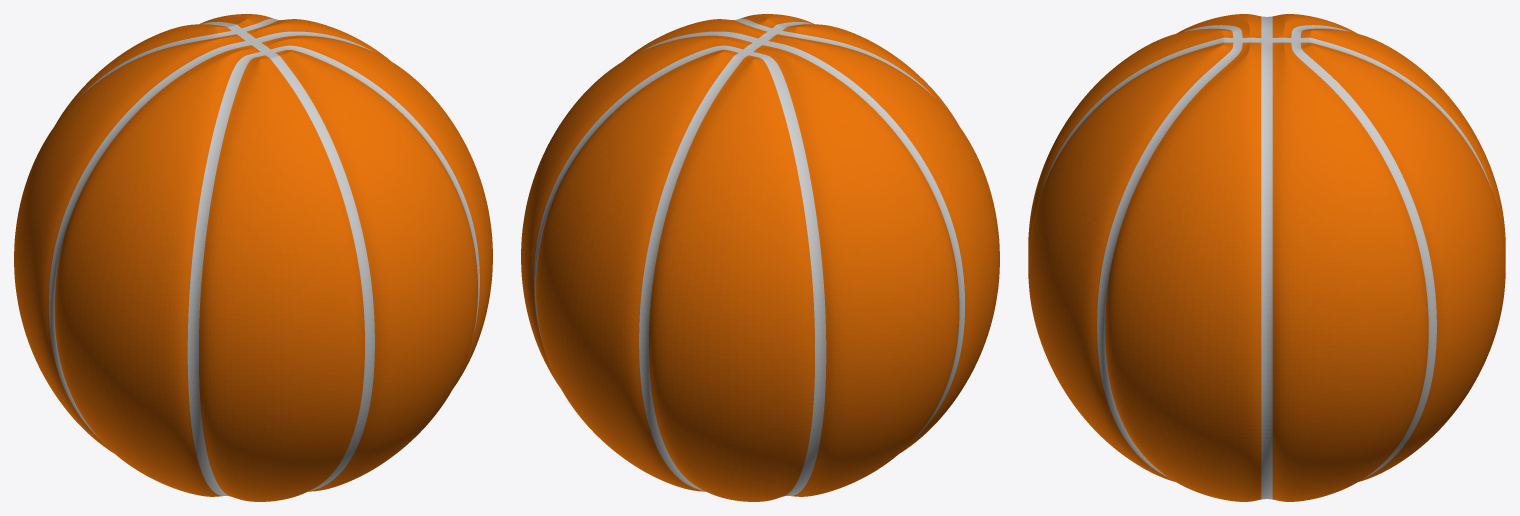
Rendered from basketball.fbx.
3 views of the same model, side by side, from view 1: azimuth 30°, elevation 25°; view 2: azimuth 150°, elevation 25°; view 3: azimuth 270°, elevation 25° (orthographic).
Parts seen in each view (by area): view 1: Sphere; view 2: Sphere; view 3: Sphere.
Part boxes in pixels (left/top/right/bottom): Sphere: left=14, top=14, right=492, bottom=501; Sphere: left=521, top=14, right=999, bottom=501; Sphere: left=1028, top=14, right=1505, bottom=501.
Size of the model in its own units: 193 by 196 by 193.
